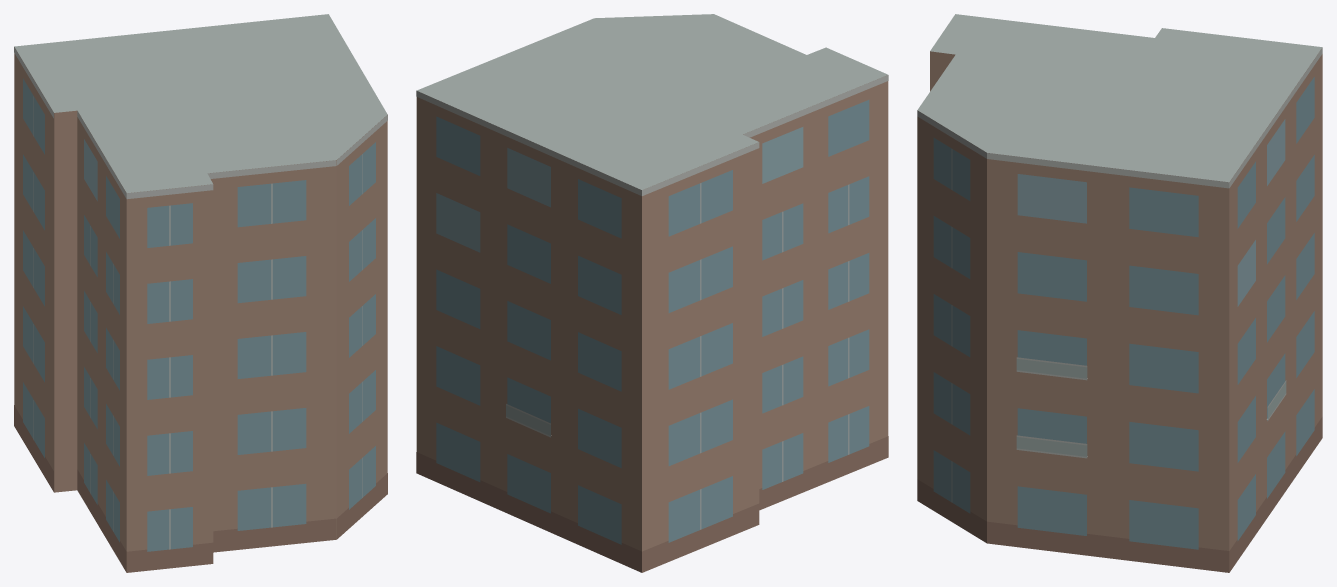
Rendered from survey-upis-32871114.glb.
3 views of the same model, side by side, from view 1: azimuth 30°, elevation 25°; view 2: azimuth 150°, elevation 25°; view 3: azimuth 270°, elevation 25° (orthographic). The views are drawn at different scales.
Parts seen in each view (by area): view 1: survey-upis-32871114.tmp; view 2: survey-upis-32871114.tmp; view 3: survey-upis-32871114.tmp.
Part boxes in pixels (<box>): survey-upis-32871114.tmp: <box>14,14,387,572</box>; survey-upis-32871114.tmp: <box>416,14,888,572</box>; survey-upis-32871114.tmp: <box>917,14,1322,572</box>.
Size of the model in its own units: 14.24 by 15.4 by 14.49.
